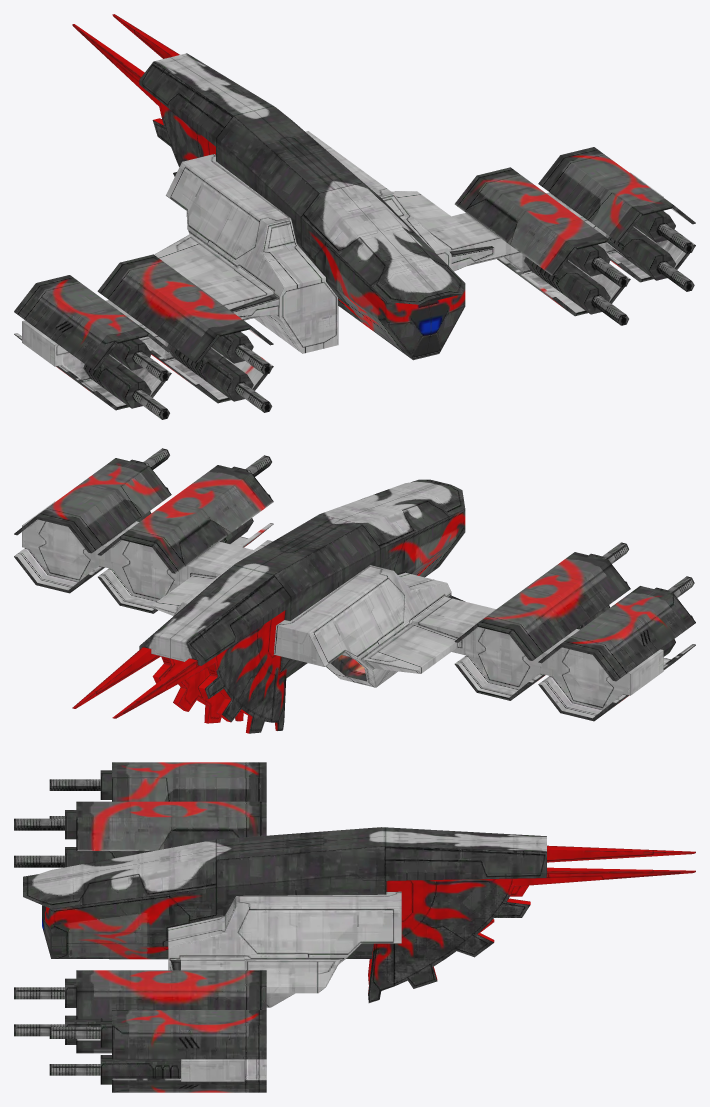
Rendered from vendetta_pirate.gltf.
3 views of the same model, one above another, from view 1: azimuth 30°, elevation 25°; view 2: azimuth 150°, elevation 25°; view 3: azimuth 270°, elevation 25° (orthographic). The views are drawn at different scales.
Parts seen in each view (by area): view 1: vendetta; view 2: vendetta; view 3: vendetta.
Boxes of the visible parts, box(x1,y1,x2,y2) form: vendetta: box(14, 14, 695, 419); vendetta: box(14, 448, 695, 733); vendetta: box(14, 762, 695, 1092).
Bounding box in the file's own units: 80.27 × 20.41 × 80.43.
Materials: 1 (1 with a texture image).
